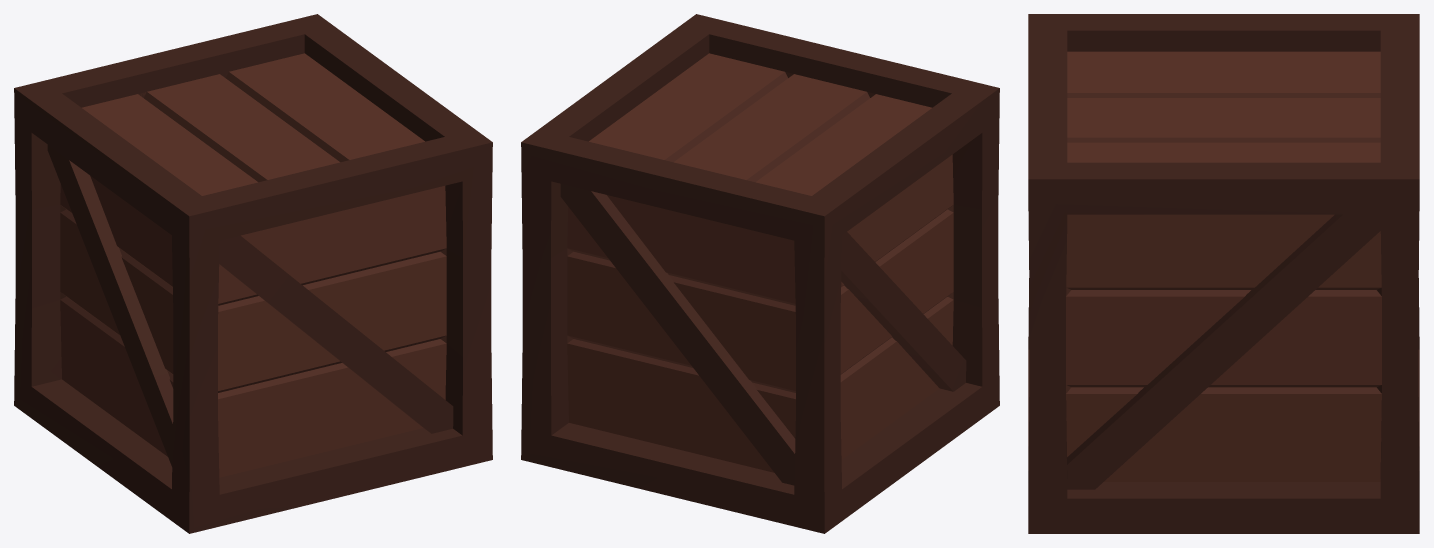
The model's file is crate_1.fbx.
3 renders of one model, left to right at view 1: azimuth 30°, elevation 25°; view 2: azimuth 150°, elevation 25°; view 3: azimuth 270°, elevation 25°, orthographic. The views are drawn at different scales.
Visible parts, largest first — view 1: crate_1; view 2: crate_1; view 3: crate_1.
Boxes of the visible parts, x1,y1,x2,y2 form: crate_1: (14,14,492,533); crate_1: (521,14,999,533); crate_1: (1028,14,1419,533).
Size of the model in its own units: 0.4 by 0.4 by 0.4.
